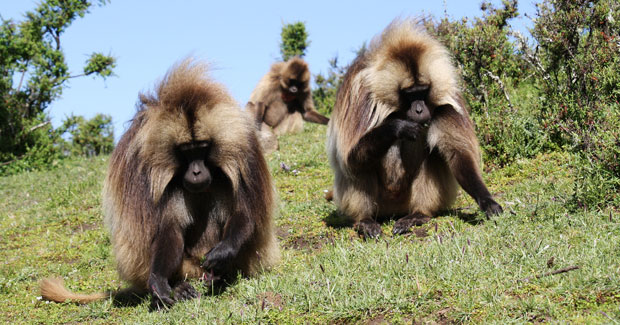Gelada: (321, 31, 496, 228), (108, 87, 277, 289), (245, 57, 324, 143)
